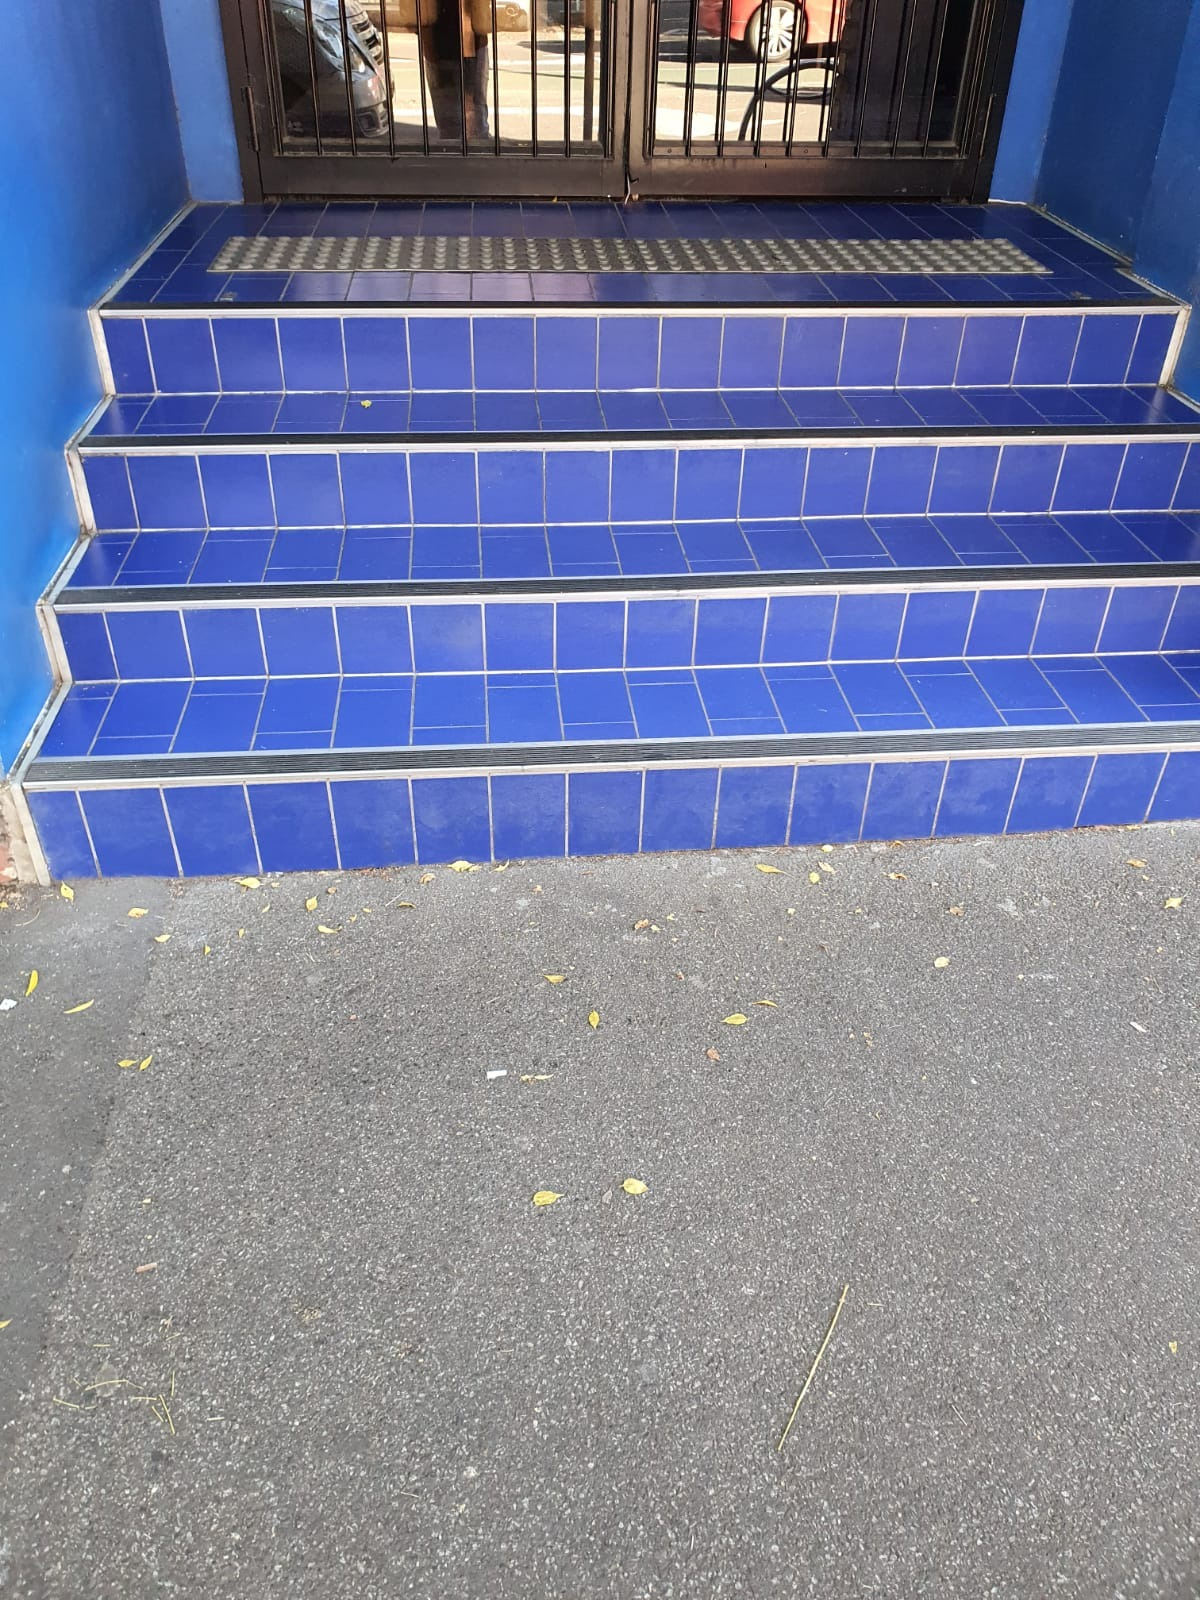upstairs: (95, 294, 1200, 927)
